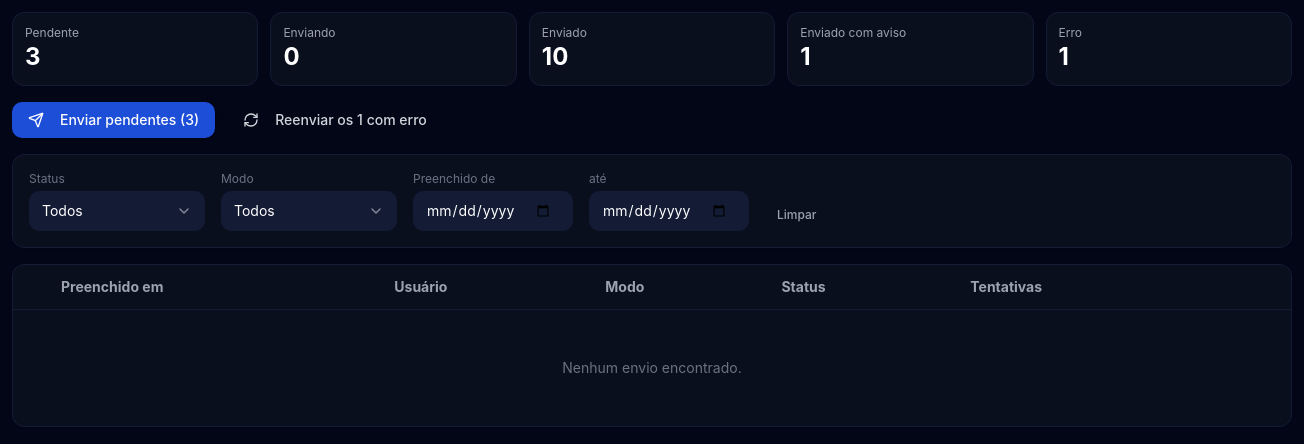
Test: EnviosTab › "Enviar pendentes" repete o lote até a fila zerar
The image size is (1304, 444).
Click the button "Enviar pendentes (3)".
click(114, 120)  # box [12, 102, 215, 138]
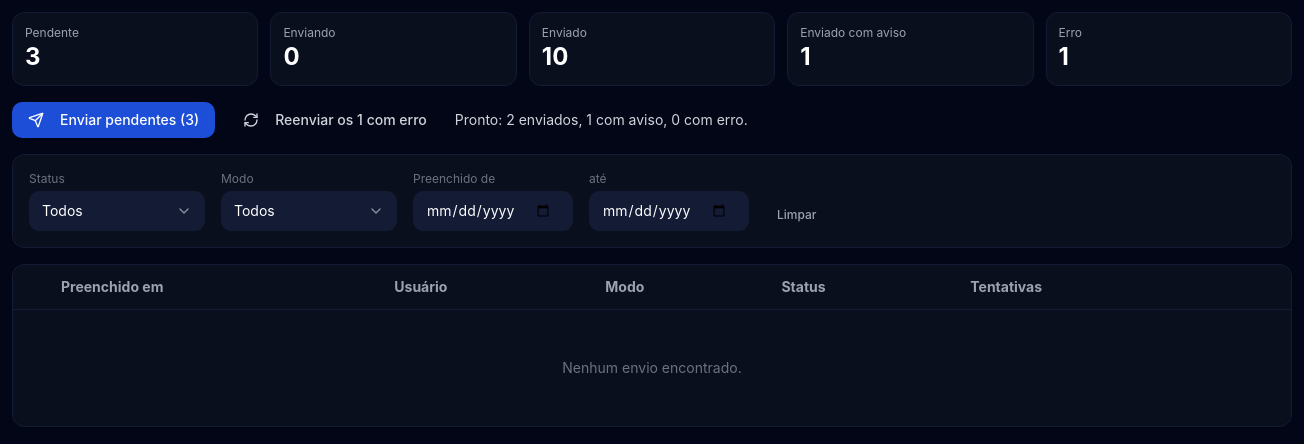
Check: the text "Pronto: 2 enviados, 1 com aviso, 0 com erro." is shown, box [455, 110, 748, 130]
